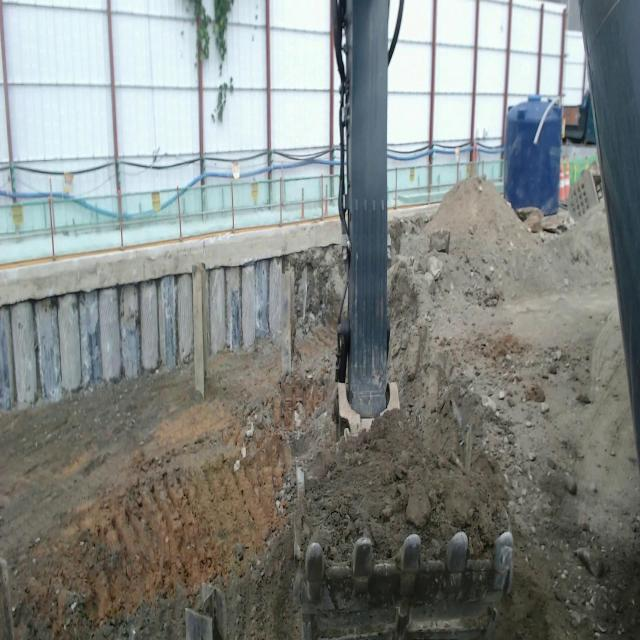white-sand: (391, 181, 640, 639), (0, 325, 335, 639), (303, 411, 507, 564)
